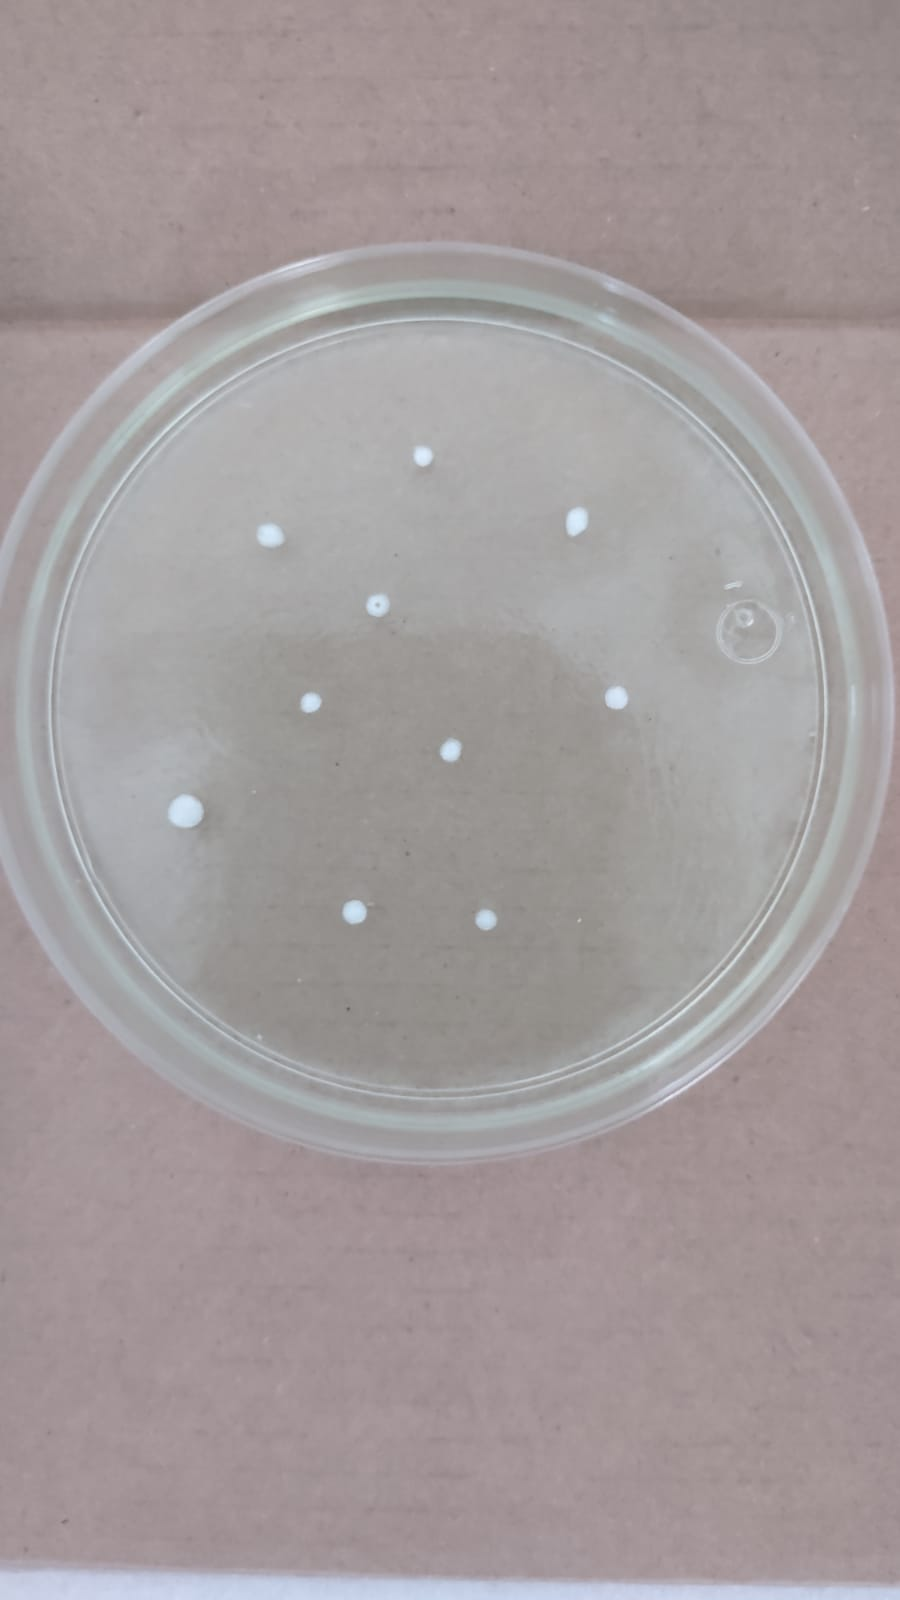Colonia: (165, 791, 214, 831), (563, 503, 592, 543), (254, 518, 288, 551), (601, 684, 631, 714), (435, 737, 467, 766), (363, 591, 396, 618), (340, 899, 370, 926), (473, 907, 499, 933), (299, 686, 322, 714), (411, 446, 437, 468)
